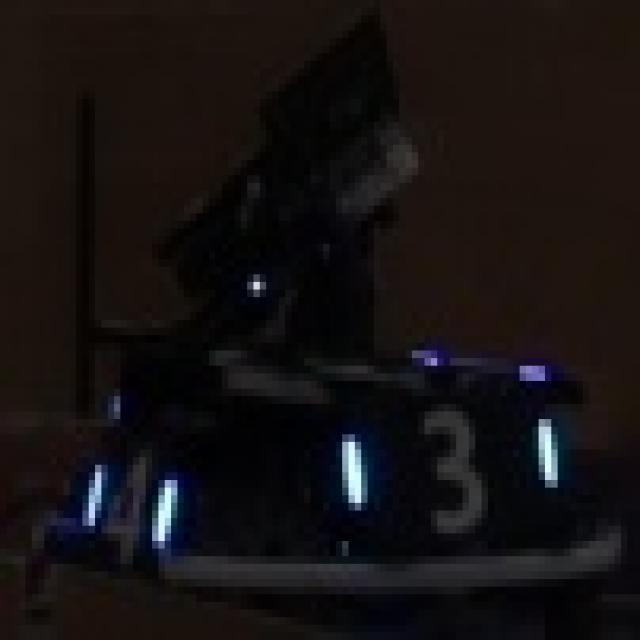B3: (330, 396, 570, 541)
B4: (82, 442, 178, 564)
